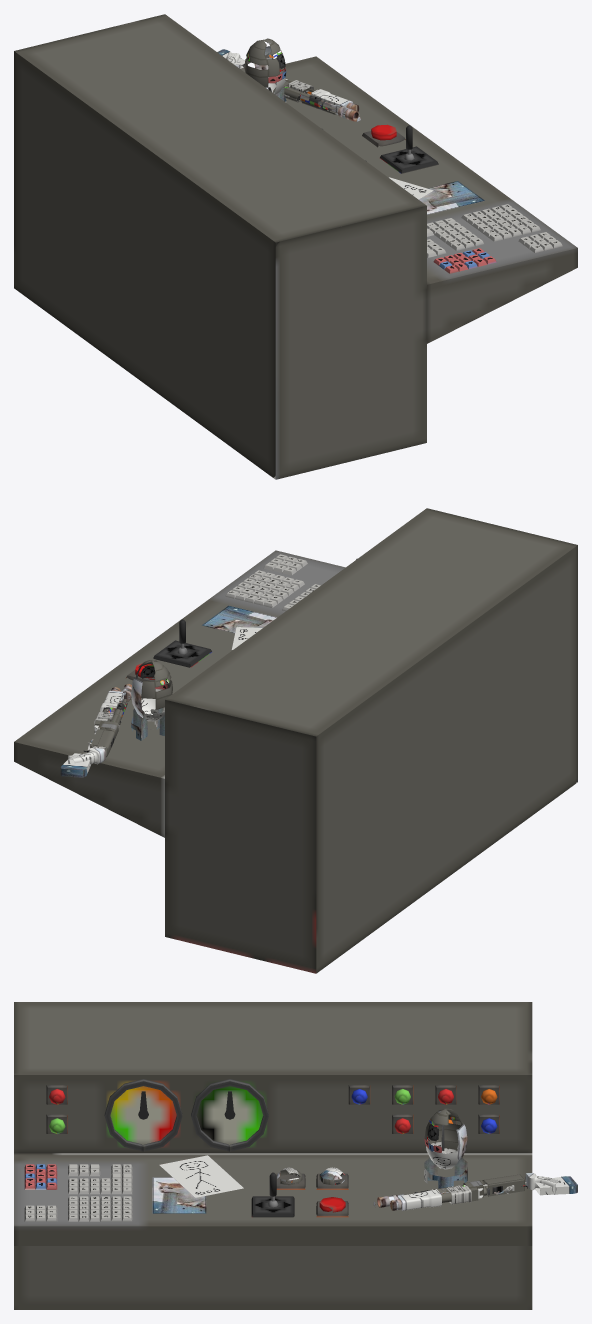
File: crane_console.obj
The picture shows the model from 3 angles, top to bottom: view 1: azimuth 30°, elevation 25°; view 2: azimuth 150°, elevation 25°; view 3: azimuth 270°, elevation 25°; orthographic projection.
Parts seen in each view (by area): view 1: Console_Coonsole, MiniNuke, Shotgun; view 2: Console_Coonsole, MiniNuke, Shotgun, Shotgun1; view 3: Console_Coonsole, Shotgun, MiniNuke, Shotgun1.
Boxes of the visible parts, left/top/right/bottom form: Console_Coonsole: left=14, top=14, right=577, bottom=479; MiniNuke: left=244, top=38, right=286, bottom=102; Shotgun: left=226, top=51, right=359, bottom=121; Console_Coonsole: left=14, top=508, right=577, bottom=973; MiniNuke: left=131, top=660, right=172, bottom=740; Shotgun: left=67, top=684, right=131, bottom=764; Shotgun1: left=60, top=689, right=131, bottom=777; Console_Coonsole: left=14, top=1002, right=532, bottom=1309; Shotgun: left=377, top=1173, right=565, bottom=1210; MiniNuke: left=424, top=1108, right=467, bottom=1188; Shotgun1: left=373, top=1176, right=577, bottom=1206.
Bounding box in the file's own units: 2 × 1.5 × 3.26.
